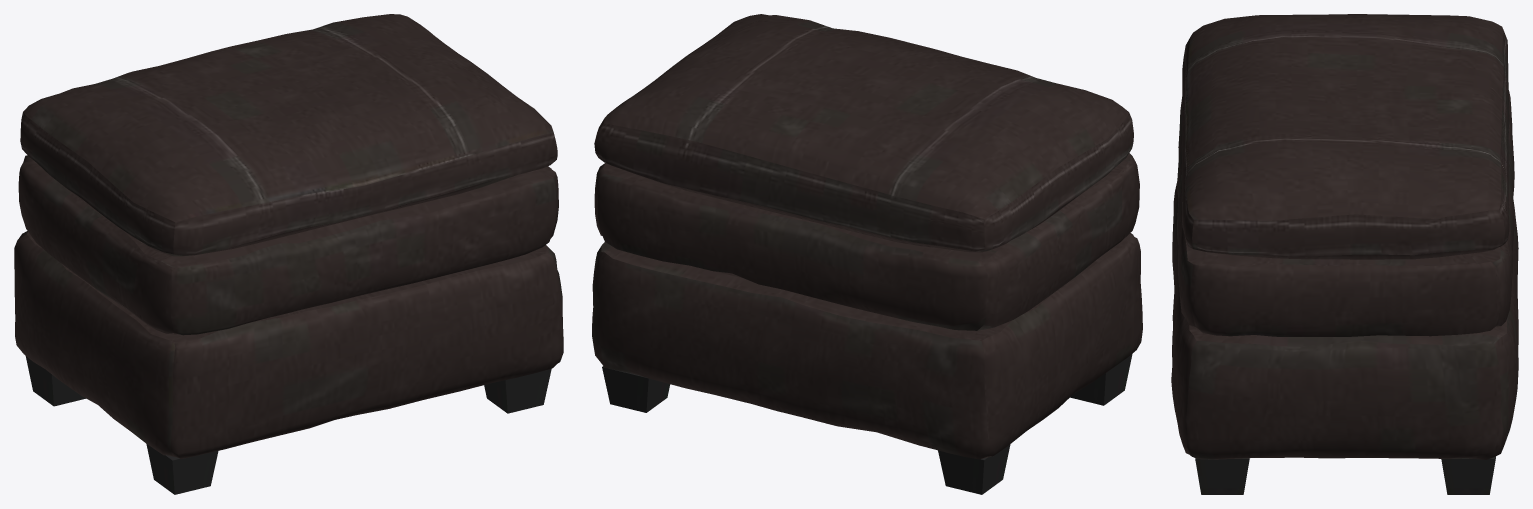
The model's file is ph_Ottoman_01.glb.
3 views of the same model, side by side, from view 1: azimuth 30°, elevation 25°; view 2: azimuth 150°, elevation 25°; view 3: azimuth 270°, elevation 25° (orthographic).
Parts seen in each view (by area): view 1: Ottoman_01; view 2: Ottoman_01; view 3: Ottoman_01.
Part boxes in pixels (x1=…): Ottoman_01: x1=14, y1=14, x2=563, y2=494; Ottoman_01: x1=592, y1=14, x2=1142, y2=494; Ottoman_01: x1=1171, y1=14, x2=1518, y2=494.
Bounding box in the file's own units: 0.8846 × 0.6243 × 0.6211.
Materials: 1 (1 with a texture image).
